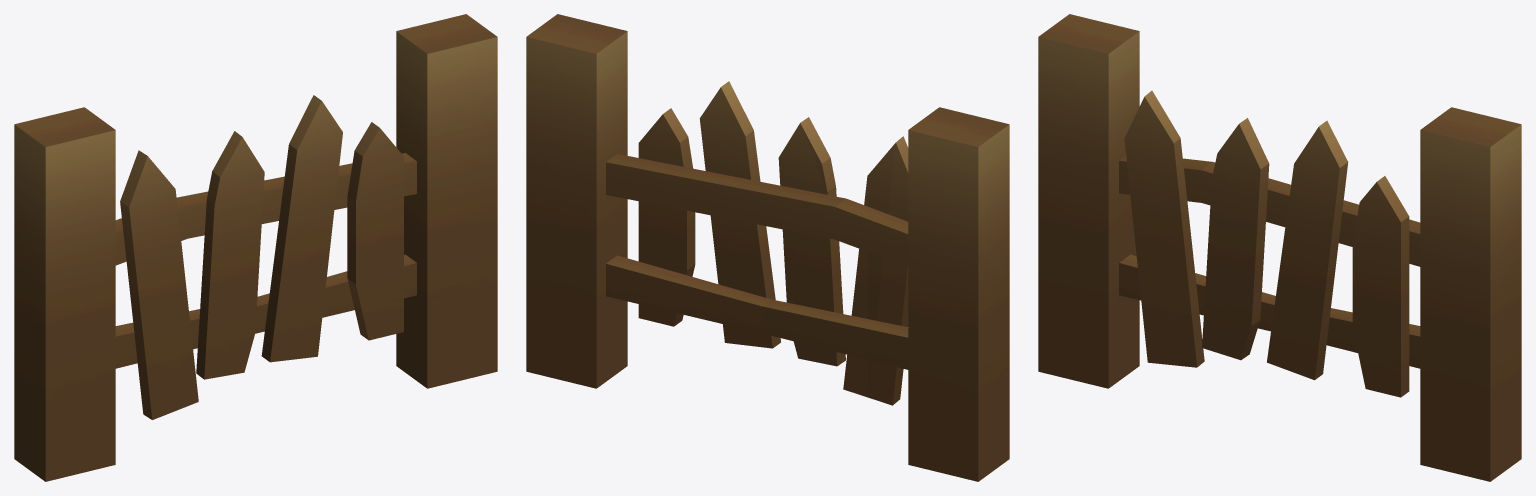
Rendered from pack04_fences_18.fbx.
3 renders of one model, left to right at view 1: azimuth 30°, elevation 25°; view 2: azimuth 150°, elevation 25°; view 3: azimuth 330°, elevation 25°, orthographic.
Parts seen in each view (by area): view 1: Small_Fence_05; view 2: Small_Fence_05; view 3: Small_Fence_05.
Boxes of the visible parts, x1=… form: Small_Fence_05: x1=14, y1=14, x2=497, y2=481; Small_Fence_05: x1=526, y1=14, x2=1009, y2=481; Small_Fence_05: x1=1038, y1=14, x2=1521, y2=481.
Size of the model in its own units: 38.4 by 27.18 by 4.6.
1 material, 1 textured.
